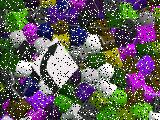Right: (31, 37, 79, 95)
